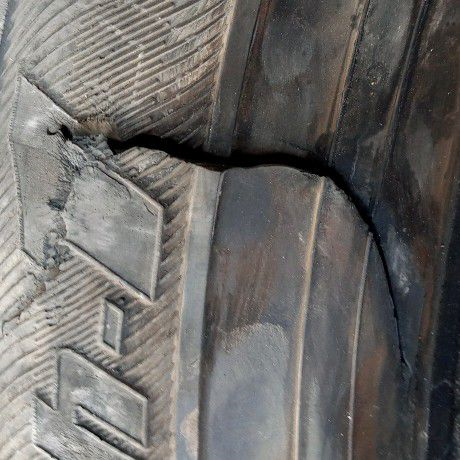cut: (48, 120, 406, 384)
